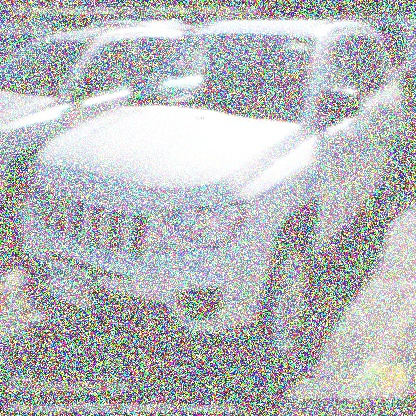Vehicle: (19, 15, 403, 368)
